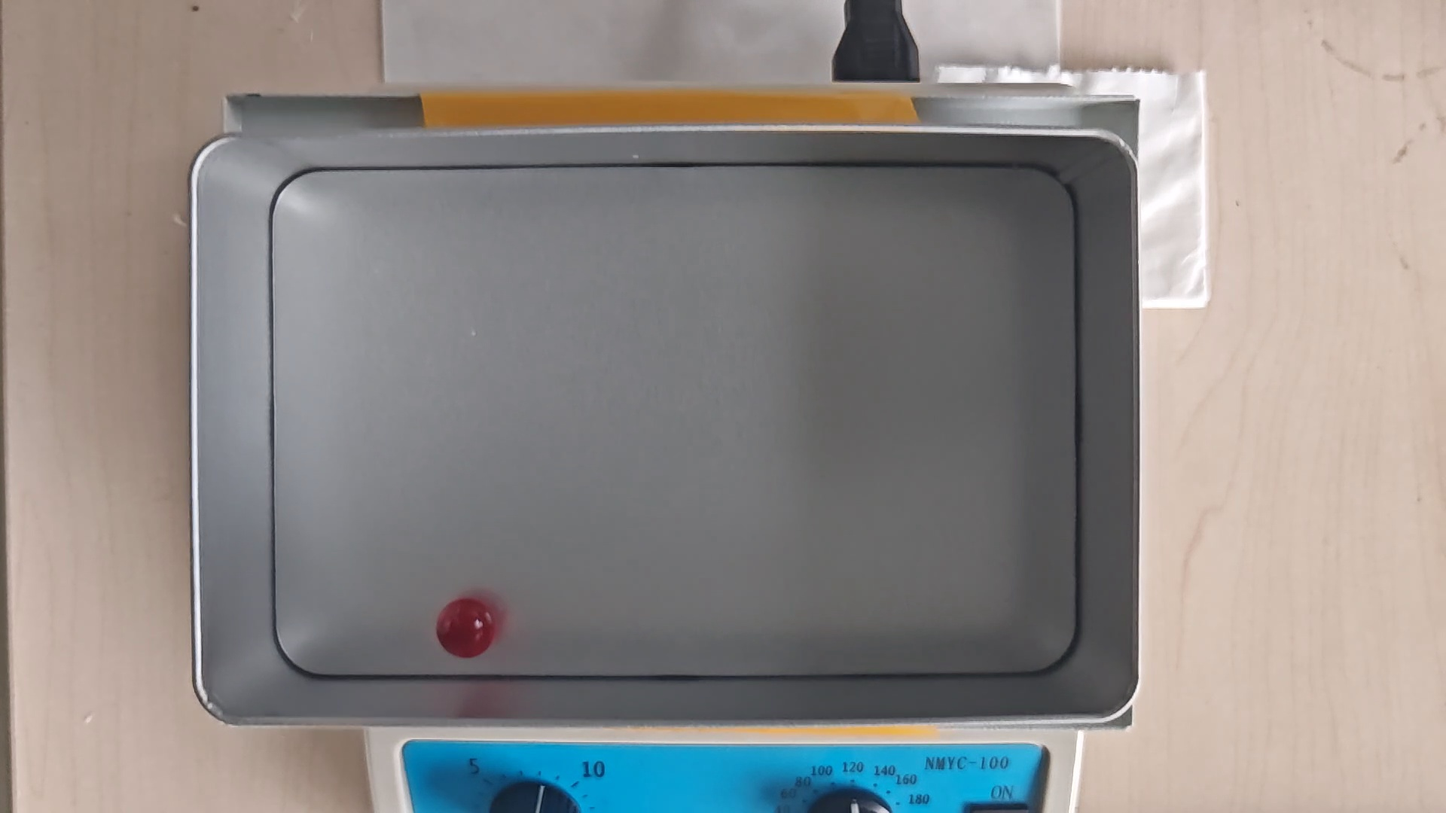ball: (438, 600, 500, 657)
container: (270, 168, 1078, 676)
